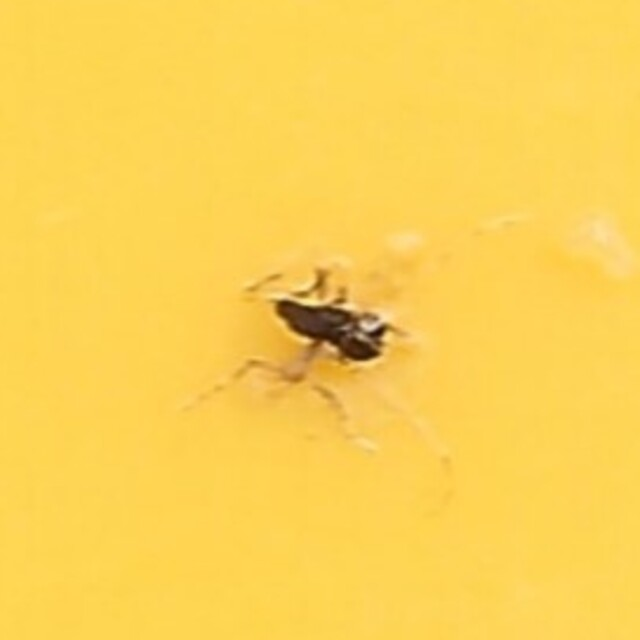Nematocera: (235, 241, 405, 399)
